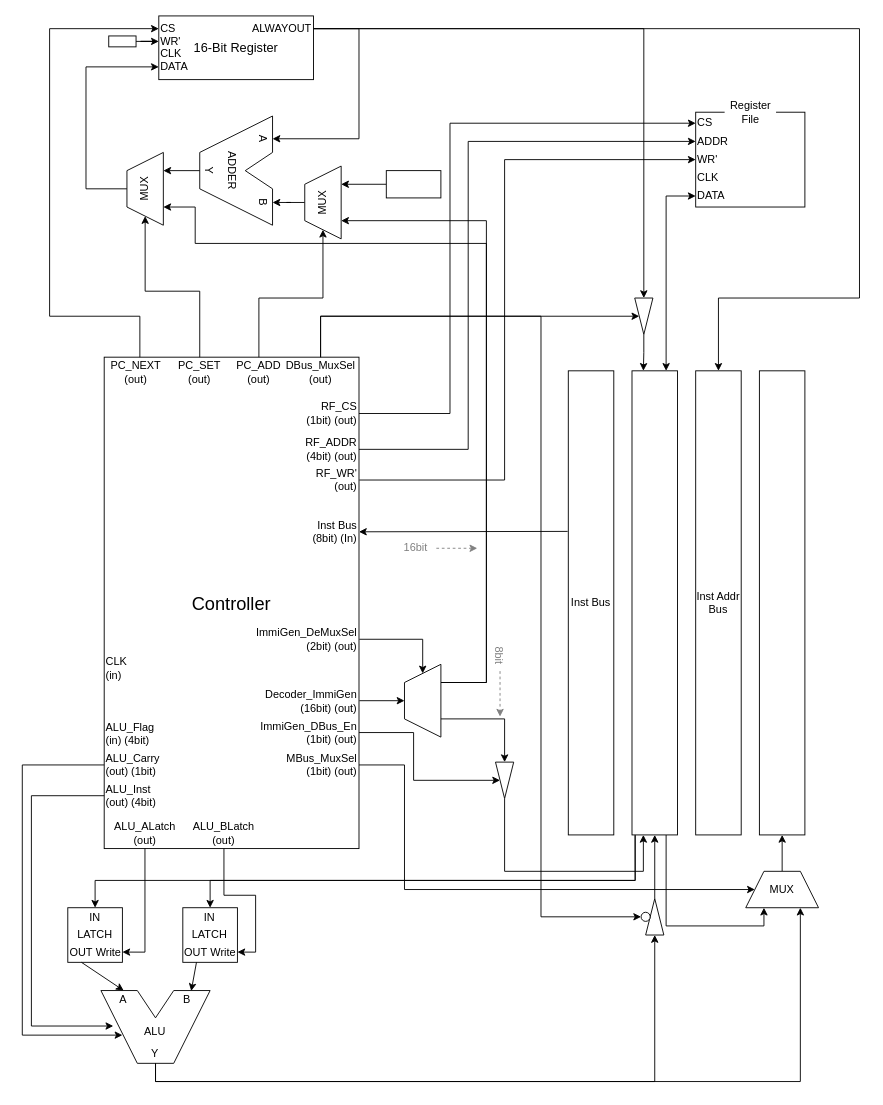
Some shapes in this 883 by 1105 pixel diagram are drawn without their labels. The shapes that lost their labels are listed below. From the top down, each one's centre as x and y in pixels, then its label:
the point at 122,41: 0b1
the point at 413,184: 0x0001
the point at 654,602: Data Bus
the point at 781,602: Mem Addr Bus
the point at 422,700: DEMUX
